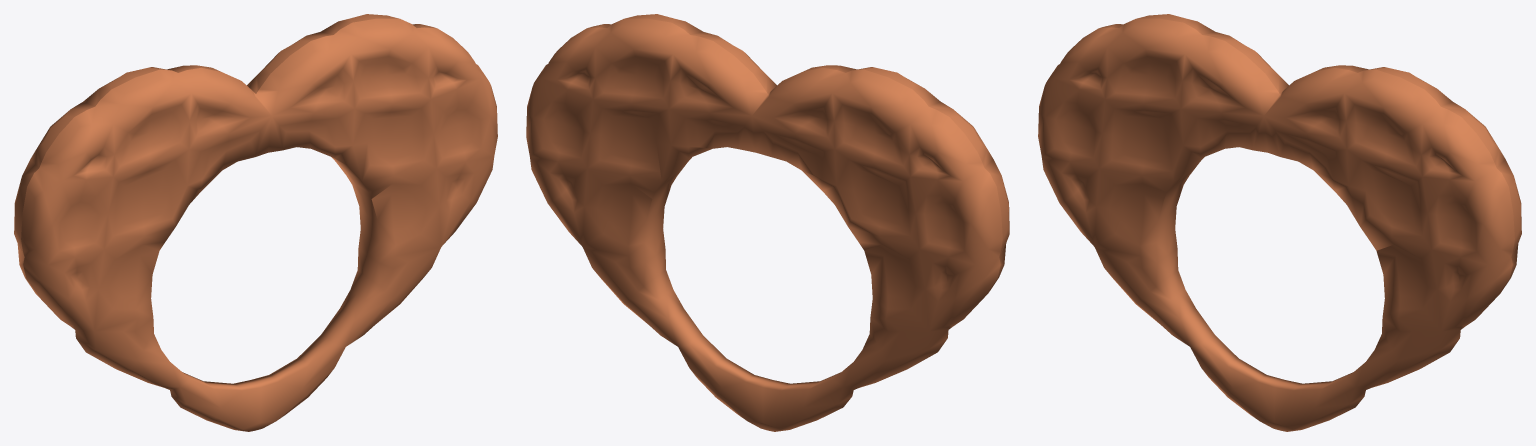
The model's file is vegitaberu.glb.
The picture shows the model from 3 angles, left to right: view 1: azimuth 30°, elevation 25°; view 2: azimuth 150°, elevation 25°; view 3: azimuth 330°, elevation 25°; orthographic projection.
Visible parts, largest first — view 1: bezitaberu_001(Clone); view 2: bezitaberu_001(Clone); view 3: bezitaberu_001(Clone).
Part boxes in pixels (<box>): bezitaberu_001(Clone): <box>14,14,497,431</box>; bezitaberu_001(Clone): <box>526,14,1009,431</box>; bezitaberu_001(Clone): <box>1038,14,1521,431</box>.
Size of the model in its own units: 0.5213 by 0.4077 by 0.0626.
